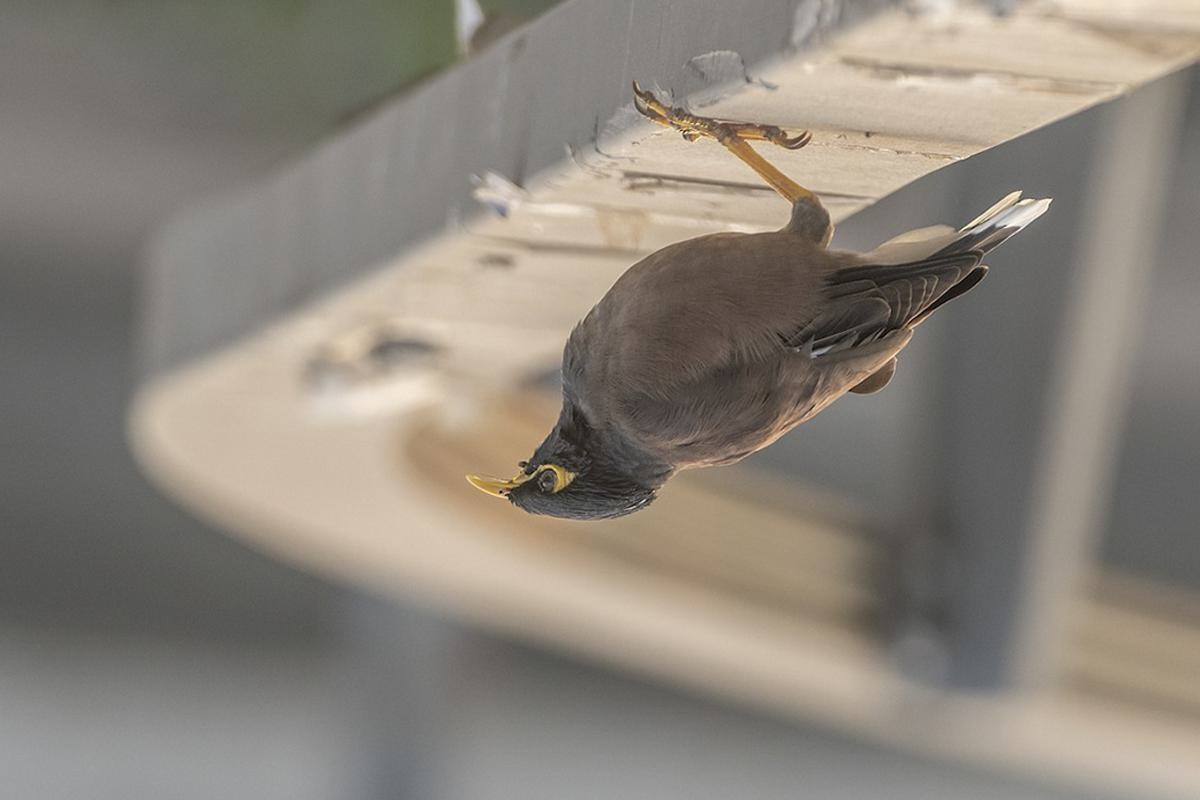myna: (470, 93, 994, 534)
